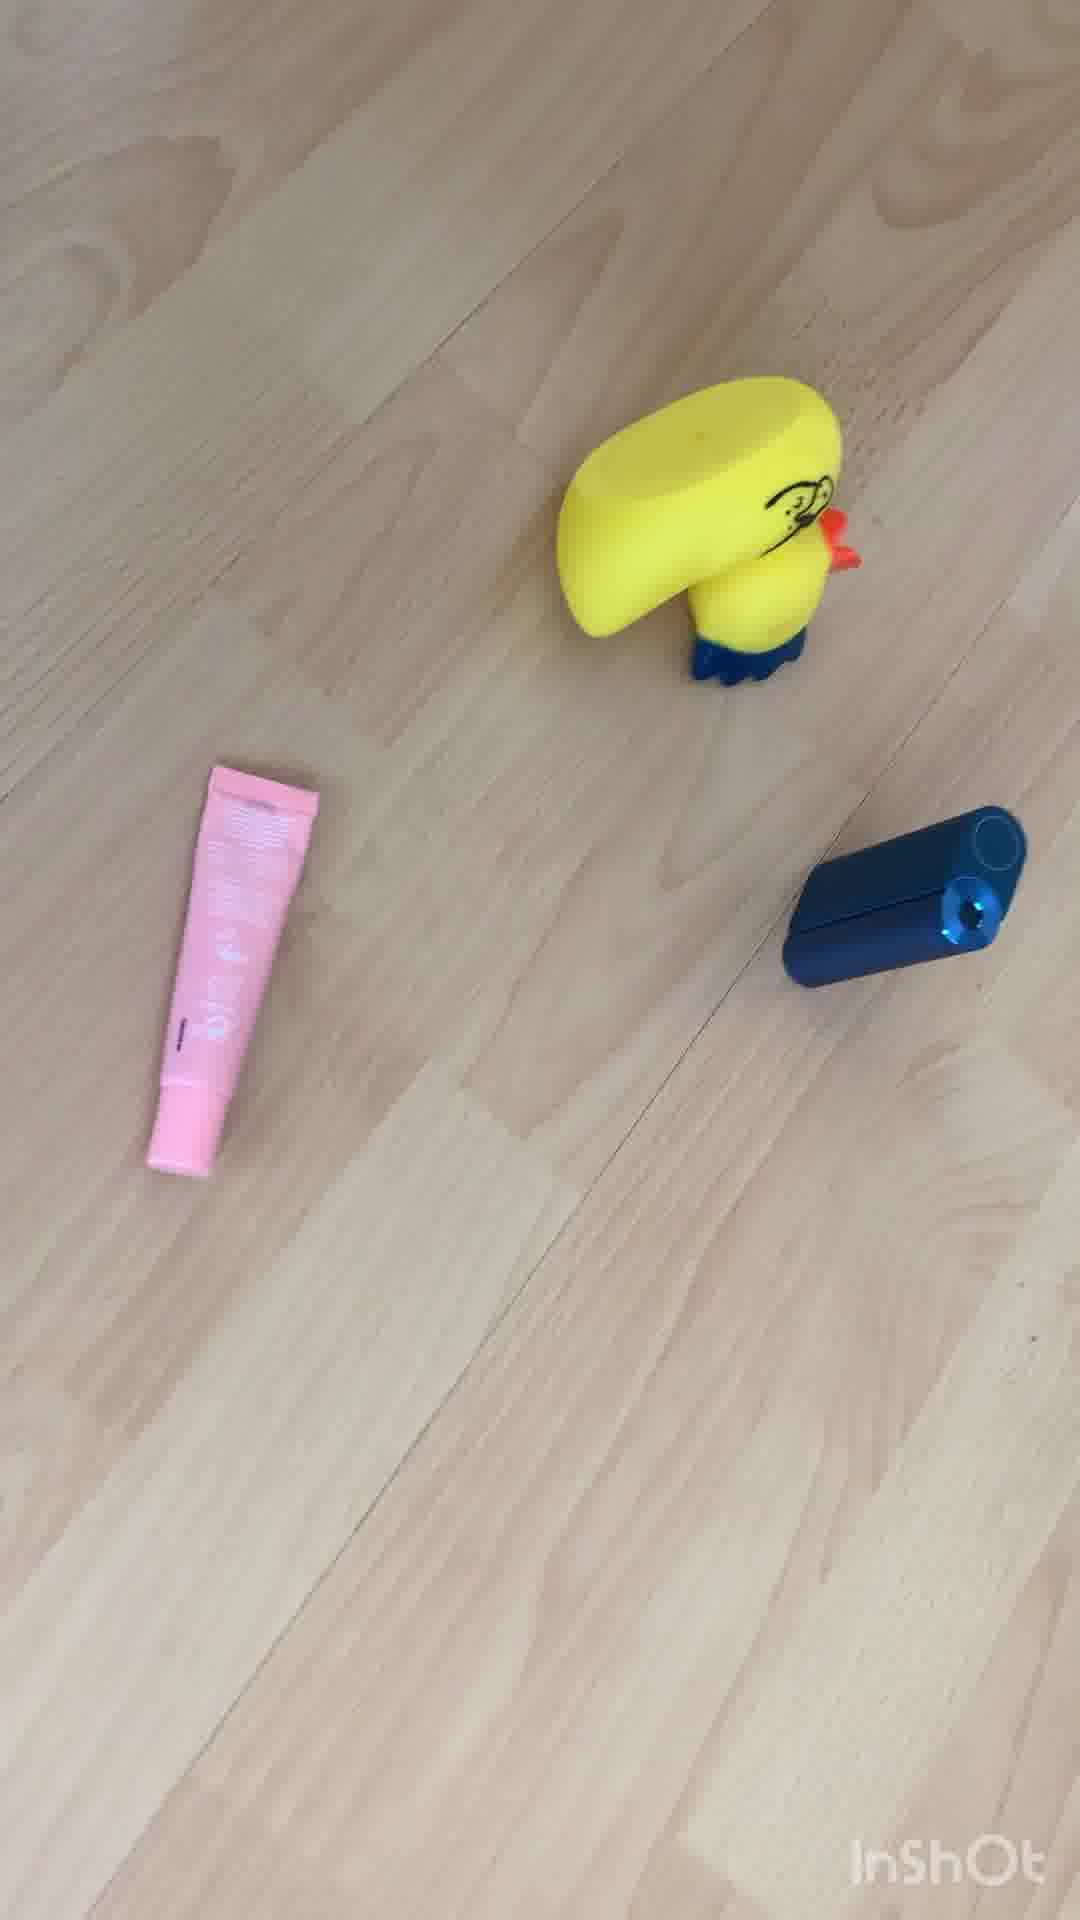duck: (551, 377, 855, 687)
glo: (774, 798, 1033, 1000)
lip balm: (138, 764, 336, 1185)
